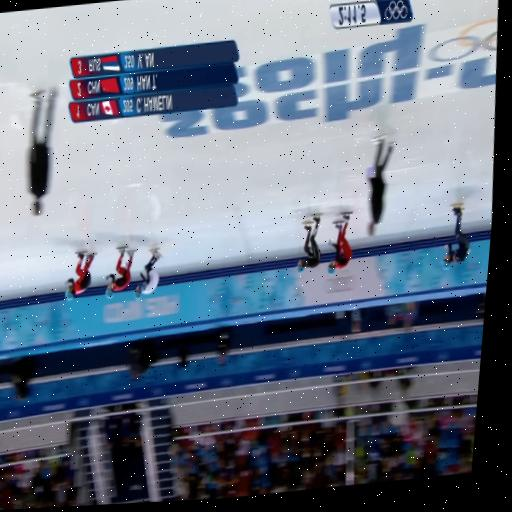Skater: (444, 203, 469, 269), (328, 212, 352, 274), (106, 246, 135, 297), (65, 252, 95, 299), (297, 213, 320, 272), (135, 249, 161, 299)
